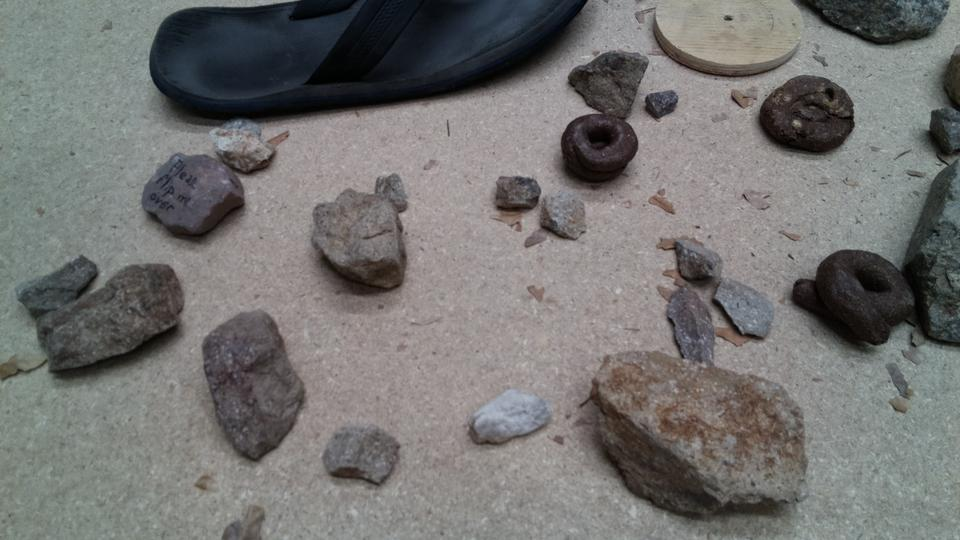poop: (788, 247, 919, 349), (757, 73, 857, 156), (557, 110, 640, 183)
